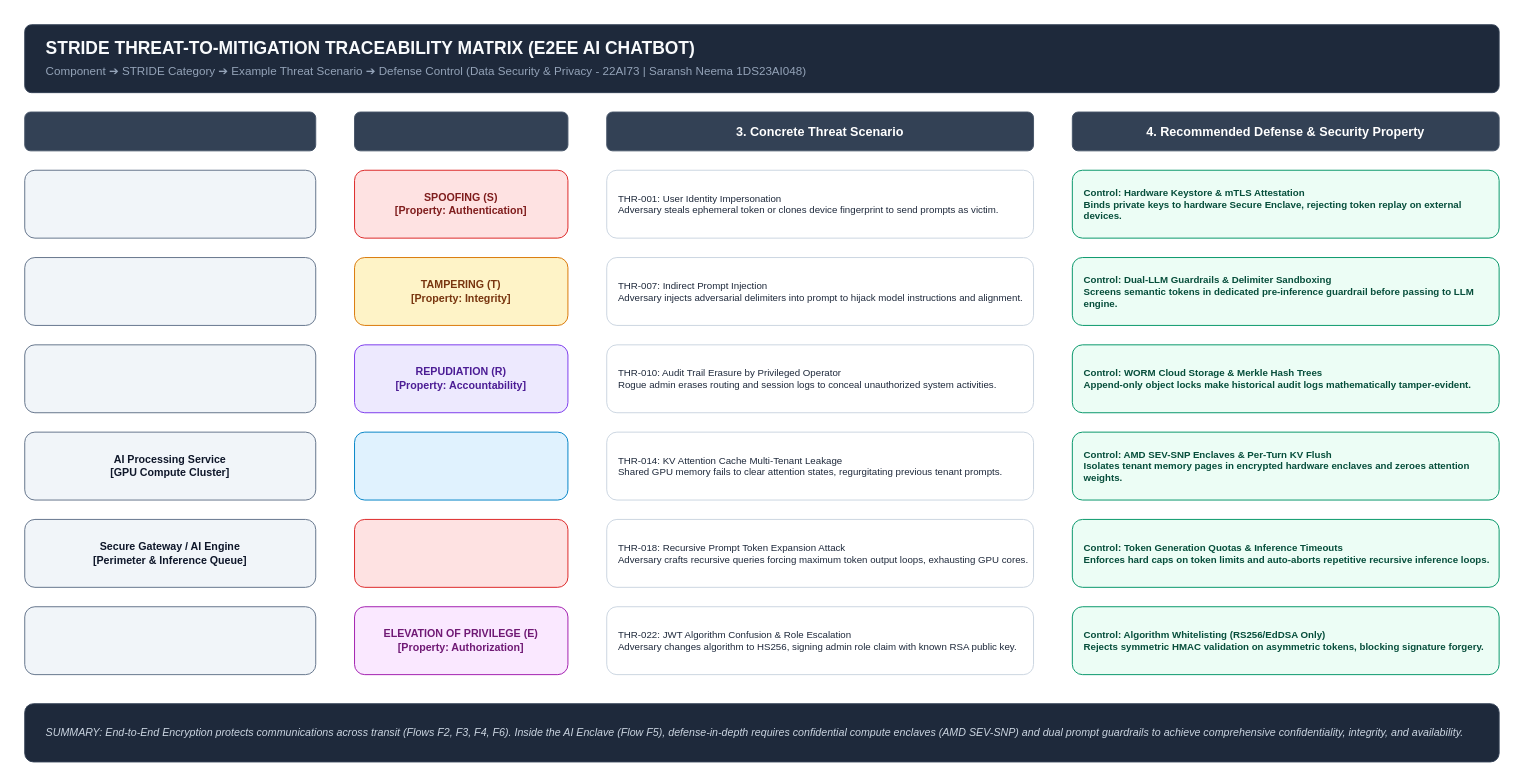
Image size: 1516x779. Some labels were removed from this diagram. Here are the shapes that lost their labels. From the top down, the centre of each, then its label:
the point at 170,131: 1. Architecture Component
the point at 461,131: 2. STRIDE Category
the point at 170,203: User / Chat Client [Untrusted OS Endpoint]
the point at 170,291: AI Processing Service [Confidential Inference Core]
the point at 170,378: Logging / Audit Service [Governance Plane]
the point at 461,465: INFORMATION DISCLOSURE (I) [Property: Confidentiality]
the point at 461,552: DENIAL OF SERVICE (D) [Property: Availability]
the point at 170,640: Identity Service / Admin API [Control Plane Endpoints]
